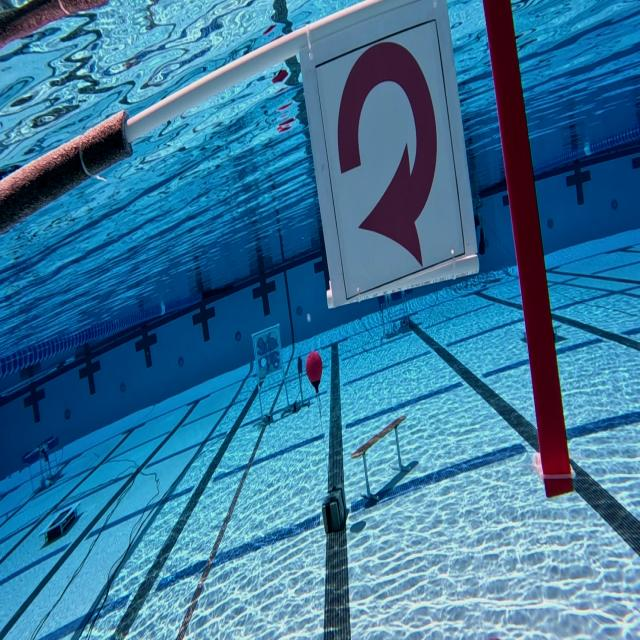red_side: (298, 0, 481, 307)
